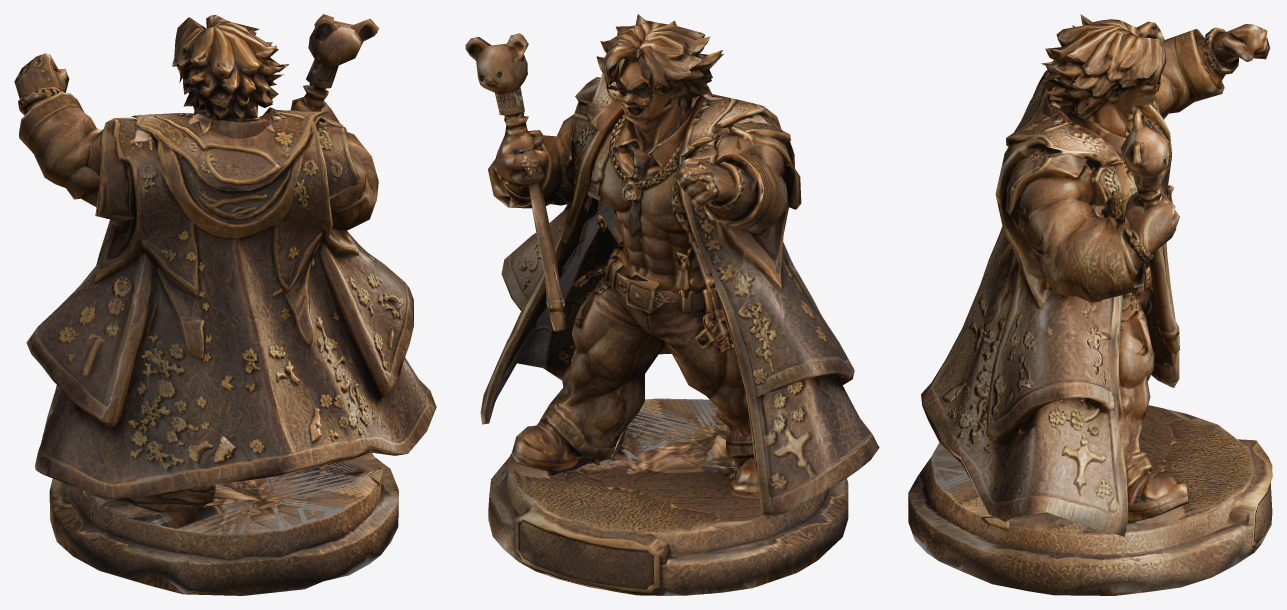
The model's file is Statue_Muscle.fbx.
3 views of the same model, side by side, from view 1: azimuth 30°, elevation 25°; view 2: azimuth 150°, elevation 25°; view 3: azimuth 270°, elevation 25° (orthographic). The views are drawn at different scales.
Parts seen in each view (by area): view 1: texture_mapping; view 2: texture_mapping; view 3: texture_mapping.
Part boxes in pixels (x1,y1,x2,y2): texture_mapping: (14, 14, 436, 595); texture_mapping: (465, 14, 879, 595); texture_mapping: (908, 14, 1272, 595).
Bounding box in the file's own units: 0.8002 × 1 × 0.6611.
